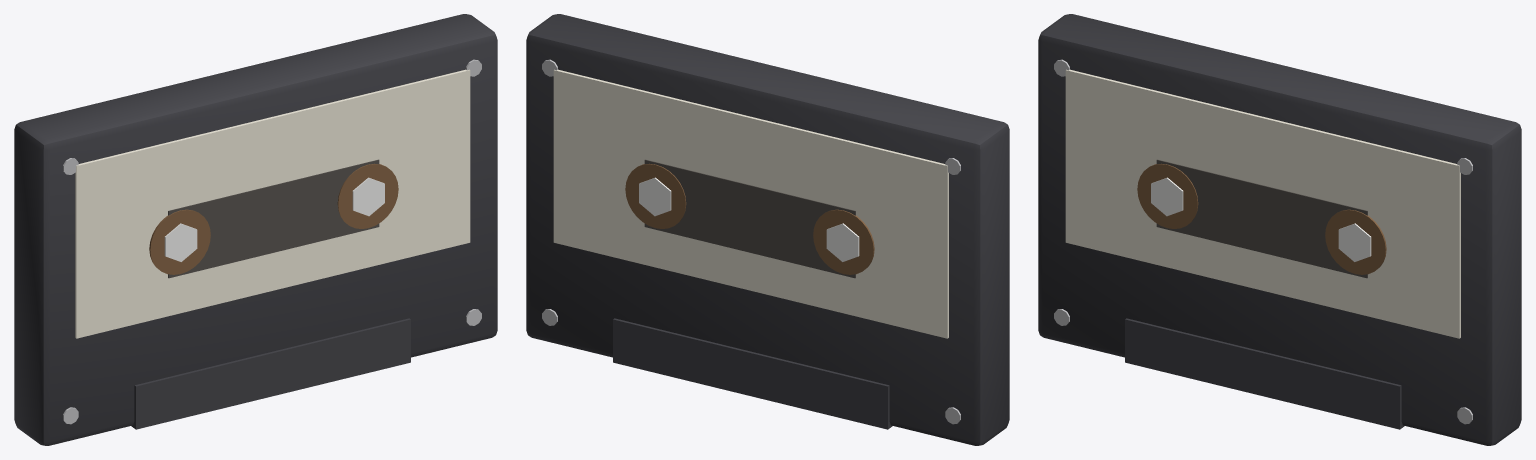
The model's file is cassette.glb.
3 renders of one model, left to right at view 1: azimuth 30°, elevation 25°; view 2: azimuth 150°, elevation 25°; view 3: azimuth 330°, elevation 25°, orthographic.
Parts seen in each view (by area): view 1: Cassette; view 2: Cassette; view 3: Cassette.
Part boxes in pixels (bbox=[...]): Cassette: bbox=[14, 14, 497, 445]; Cassette: bbox=[526, 14, 1009, 445]; Cassette: bbox=[1038, 14, 1521, 445].
Size of the model in its own units: 0.1 by 0.064 by 0.0146.
